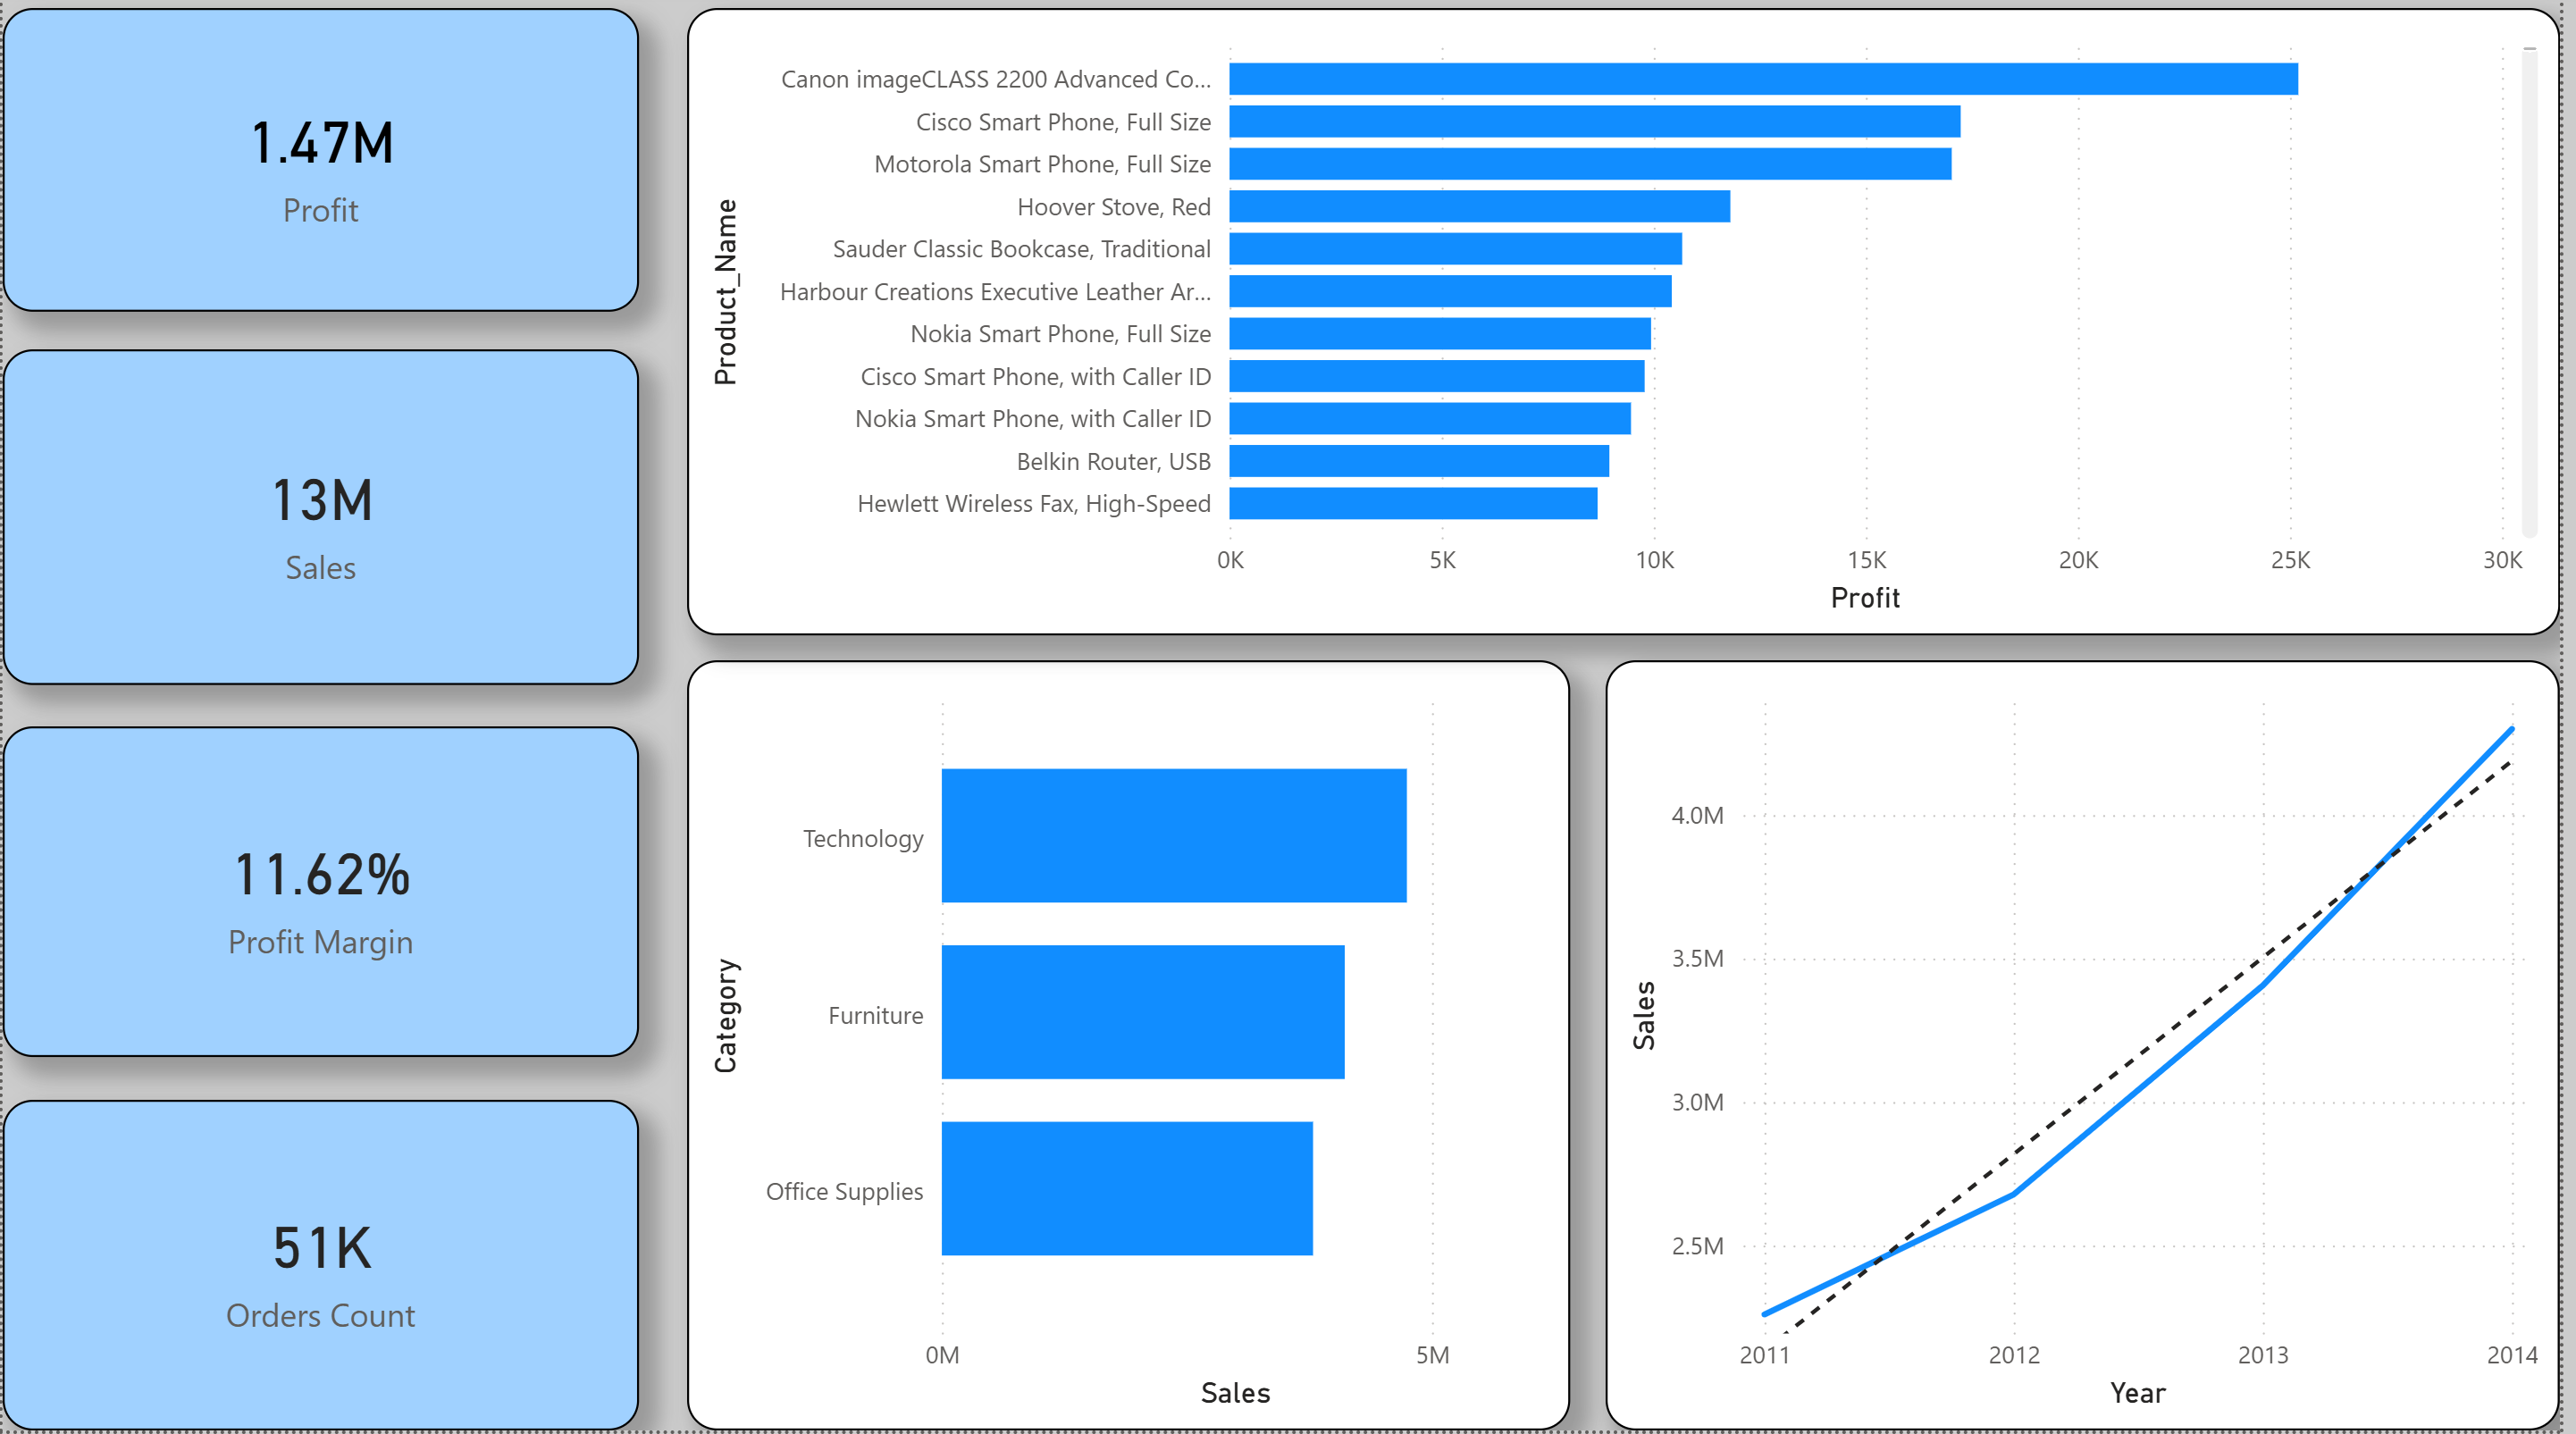

What the dashboard file says about the page in this screenshot:
{"tool":"powerbi","page":{"name":"Overview Dashboard","canvas":[1280,720],"ordinal":0},"visuals":[{"type":"card","fields":{"Values":["Sum(SuperStoreOrders - SuperStoreOr.profit)"]},"box":[0,8,318.4,152],"z":0},{"type":"card","fields":{"Values":["Sum(SuperStoreOrders - SuperStoreOr.sales)"]},"box":[0,178.9,318.4,168.1],"z":1000},{"type":"card","fields":{"Values":["SuperStoreOrders - SuperStoreOr.Profit Margin"]},"box":[0,367.6,318.4,165.5],"z":2000},{"type":"card","fields":{"Values":["SuperStoreOrders - SuperStoreOr.Orders Count"]},"box":[0,554.5,318.4,165.5],"z":3000},{"type":"clusteredBarChart","fields":{"Category":["SuperStoreOrders - SuperStoreOr.category"],"Y":["Sum(SuperStoreOrders - SuperStoreOr.sales)"]},"box":[342.6,334.5,441.8,385.5],"z":4000},{"type":"barChart","fields":{"Category":["SuperStoreOrders - SuperStoreOr.product_name"],"Y":["Sum(SuperStoreOrders - SuperStoreOr.profit)"]},"box":[342.6,8,937.3,313.9],"z":5000},{"type":"lineChart","fields":{"Y":["Sum(SuperStoreOrders - SuperStoreOr.sales)"],"Category":["SuperStoreOrders - SuperStoreOr.year"]},"box":[802.3,334.5,477.6,385.5],"z":6000}]}

Visuals, with their boxes in screenshot pixels (x1, y1, x2, y2), scaled from the page's 1280x720 canvas onto the 2576x1434 screenshot:
card - Sum(SuperStoreOrders - SuperStoreOr.profit): <bbox>0, 16, 641, 319</bbox>
card - Sum(SuperStoreOrders - SuperStoreOr.sales): <bbox>0, 356, 641, 692</bbox>
card - SuperStoreOrders - SuperStoreOr.Profit Margin: <bbox>0, 732, 641, 1061</bbox>
card - SuperStoreOrders - SuperStoreOr.Orders Count: <bbox>0, 1104, 641, 1433</bbox>
clusteredBarChart - SuperStoreOrders - SuperStoreOr.category x Sum(SuperStoreOrders - SuperStoreOr.sales): <bbox>690, 667, 1579, 1433</bbox>
barChart - SuperStoreOrders - SuperStoreOr.product_name x Sum(SuperStoreOrders - SuperStoreOr.profit): <bbox>690, 16, 2575, 642</bbox>
lineChart - Sum(SuperStoreOrders - SuperStoreOr.sales) x SuperStoreOrders - SuperStoreOr.year: <bbox>1615, 667, 2575, 1433</bbox>
